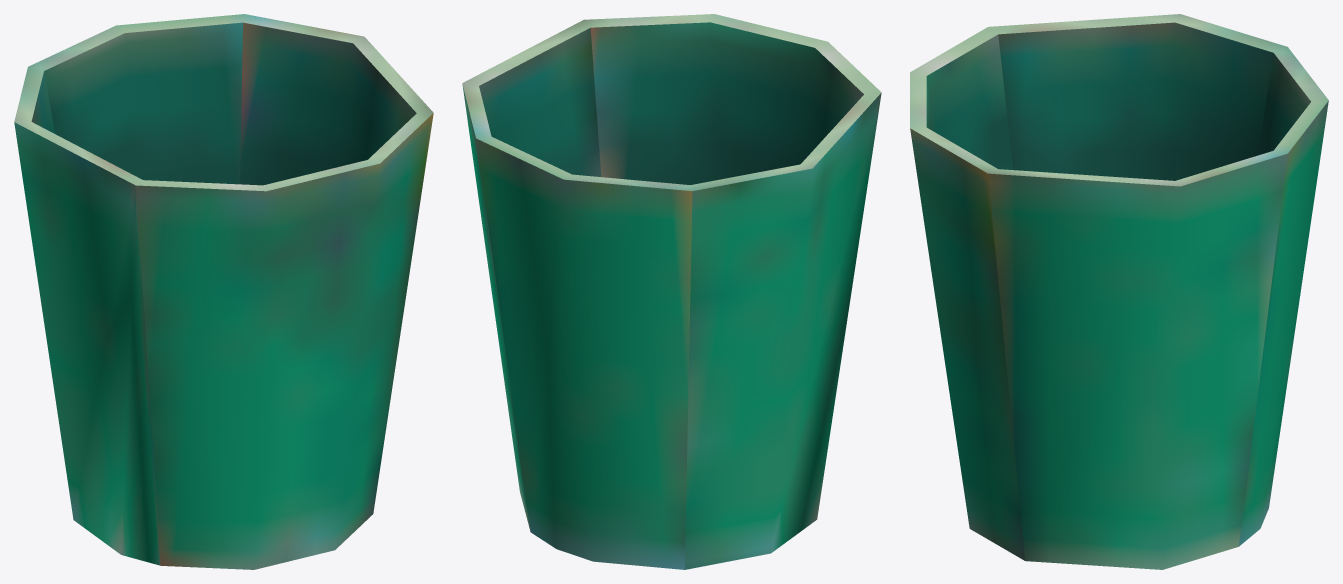
Rendered from junk_10-v3.glb.
3 views of the same model, side by side, from view 1: azimuth 30°, elevation 25°; view 2: azimuth 150°, elevation 25°; view 3: azimuth 270°, elevation 25° (orthographic).
Parts seen in each view (by area): view 1: junk_10; view 2: junk_10; view 3: junk_10.
Part boxes in pixels (x1,y1,x2,y2): junk_10: [14, 14, 433, 569]; junk_10: [462, 14, 881, 569]; junk_10: [910, 14, 1328, 569].
Size of the model in its own units: 1.16 by 1.28 by 1.19.
Materials: 1 (1 with a texture image).
